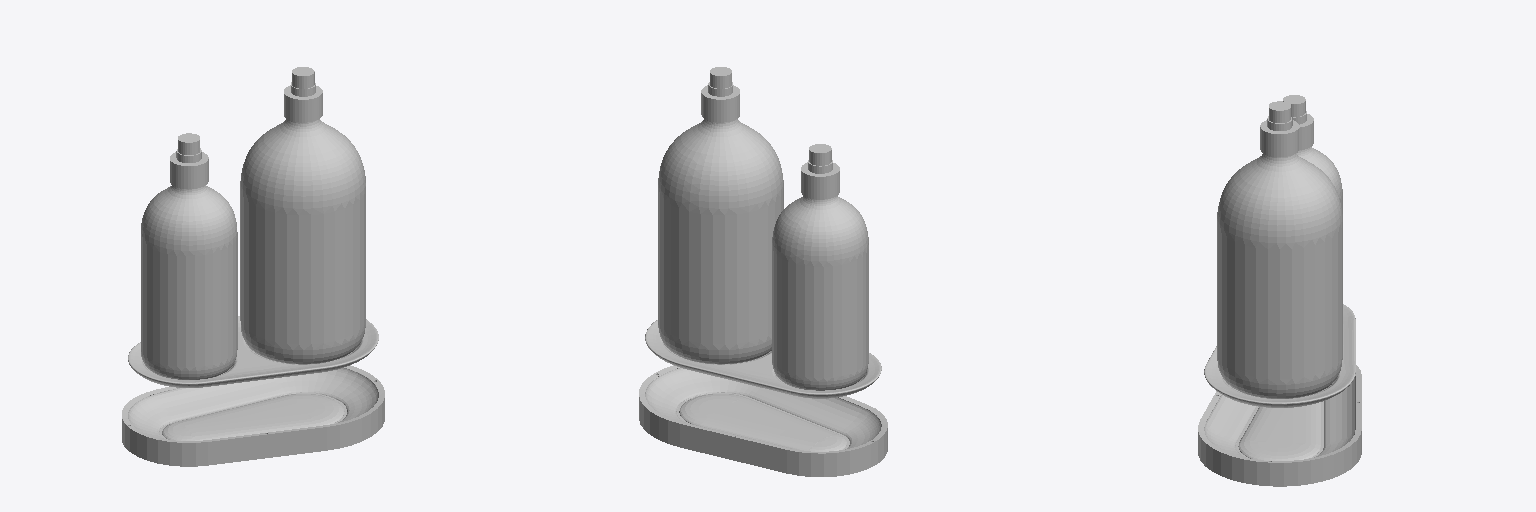
Rendered from tray.obj.
3 renders of one model, left to right at view 1: azimuth 30°, elevation 25°; view 2: azimuth 150°, elevation 25°; view 3: azimuth 270°, elevation 25°, orthographic.
Visible parts, largest first — view 1: Body1:1, Bottom Mold, Body1, Plate, Body2:1, Body2; view 2: Body1:1, Bottom Mold, Body1, Plate, Body2, Body2:1; view 3: Body1:1, Bottom Mold, Plate, Body2:1, Body2, Body1.
Boxes of the visible parts, x1,y1,x2,y2 form: Body1:1: [240, 119, 365, 364]; Bottom Mold: [122, 365, 384, 466]; Body1: [141, 185, 237, 379]; Plate: [128, 316, 378, 387]; Body2:1: [284, 67, 322, 122]; Body2: [170, 133, 208, 188]; Body1:1: [658, 119, 783, 364]; Bottom Mold: [639, 365, 887, 476]; Body1: [772, 196, 868, 390]; Plate: [645, 320, 881, 398]; Body2: [801, 144, 839, 199]; Body2:1: [701, 67, 739, 122]; Body1:1: [1217, 153, 1342, 398]; Bottom Mold: [1198, 365, 1361, 486]; Plate: [1204, 304, 1355, 407]; Body2:1: [1260, 101, 1298, 156]; Body2: [1283, 95, 1313, 149]; Body1: [1297, 147, 1342, 213].
Size of the model in its own units: 21.64 by 30.25 by 13.